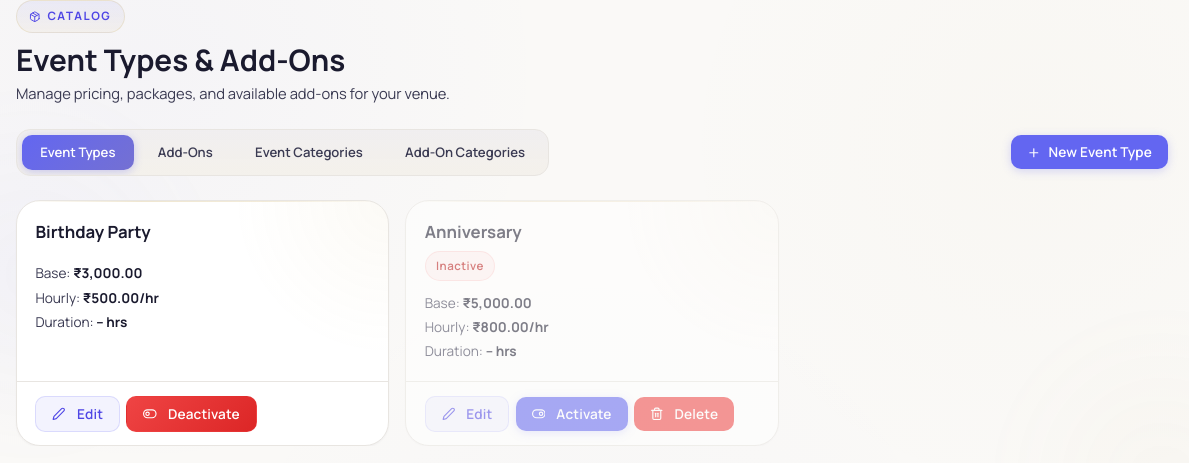
Scenario: AdminEventTypes Page › displays add-ons after switching tab
Expected: the text "Birthday Party" is shown, [35,220,151,243]
Step 1. Click the button "Add-Ons" → {"x": 185, "y": 152}, box [139,135,231,170]
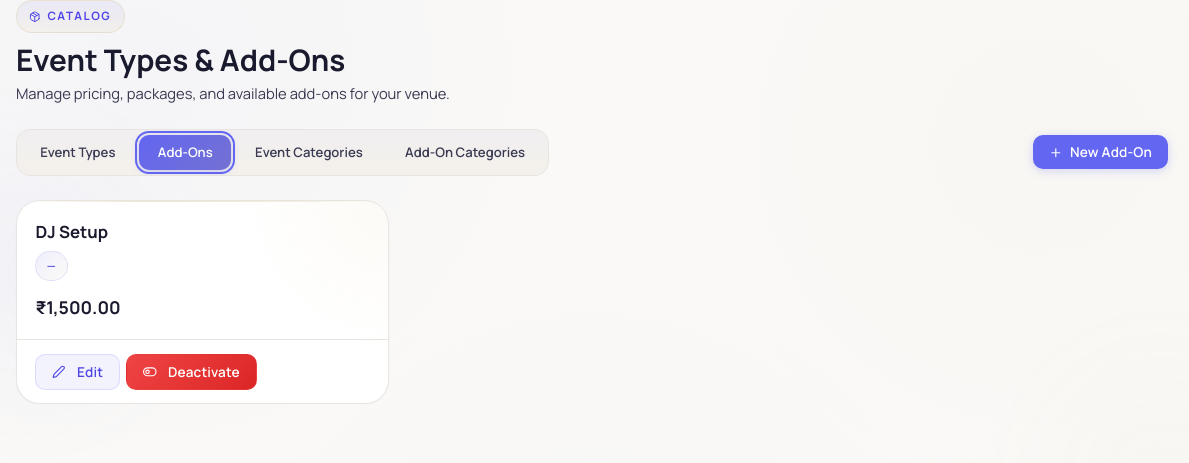
Expected: the text "DJ Setup" is shown, [35,220,108,243]
